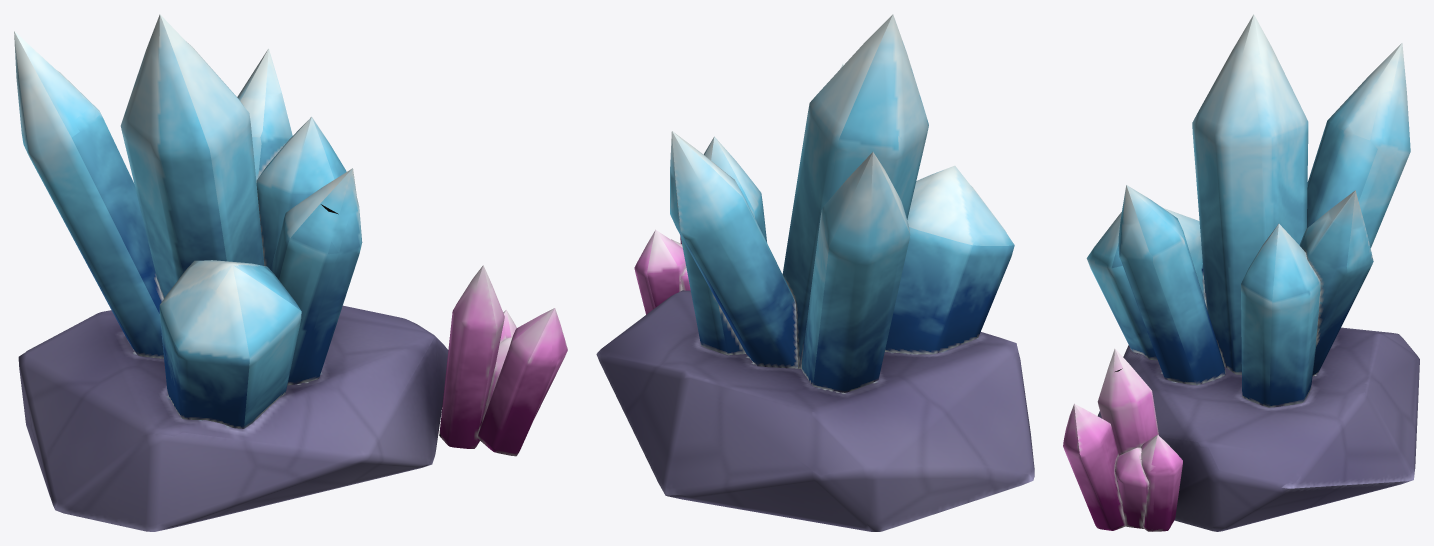
File: Cosmos_Cristaux.fbx
3 renders of one model, left to right at view 1: azimuth 30°, elevation 25°; view 2: azimuth 150°, elevation 25°; view 3: azimuth 270°, elevation 25°, orthographic. The views are drawn at different scales.
Visible parts, largest first — view 1: Cosmos_Cristaux; view 2: Cosmos_Cristaux; view 3: Cosmos_Cristaux.
Boxes of the visible parts, x1=… form: Cosmos_Cristaux: x1=14, y1=14, x2=567, y2=531; Cosmos_Cristaux: x1=596, y1=14, x2=1034, y2=531; Cosmos_Cristaux: x1=1063, y1=14, x2=1419, y2=531.
Bounding box in the file's own units: 494 × 495 × 394.
1 material, 1 textured.
